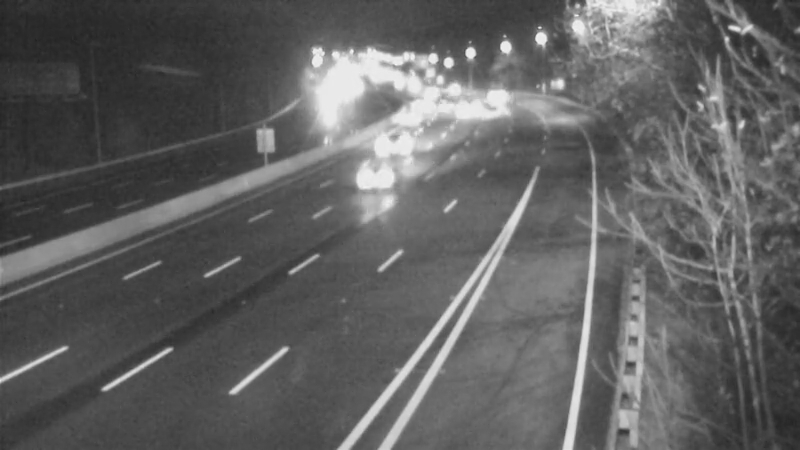vehicle: (328, 137, 408, 217), (472, 71, 522, 121), (399, 84, 449, 134), (461, 86, 511, 136), (441, 87, 491, 137), (381, 90, 431, 140), (377, 122, 427, 172), (303, 84, 353, 134)
